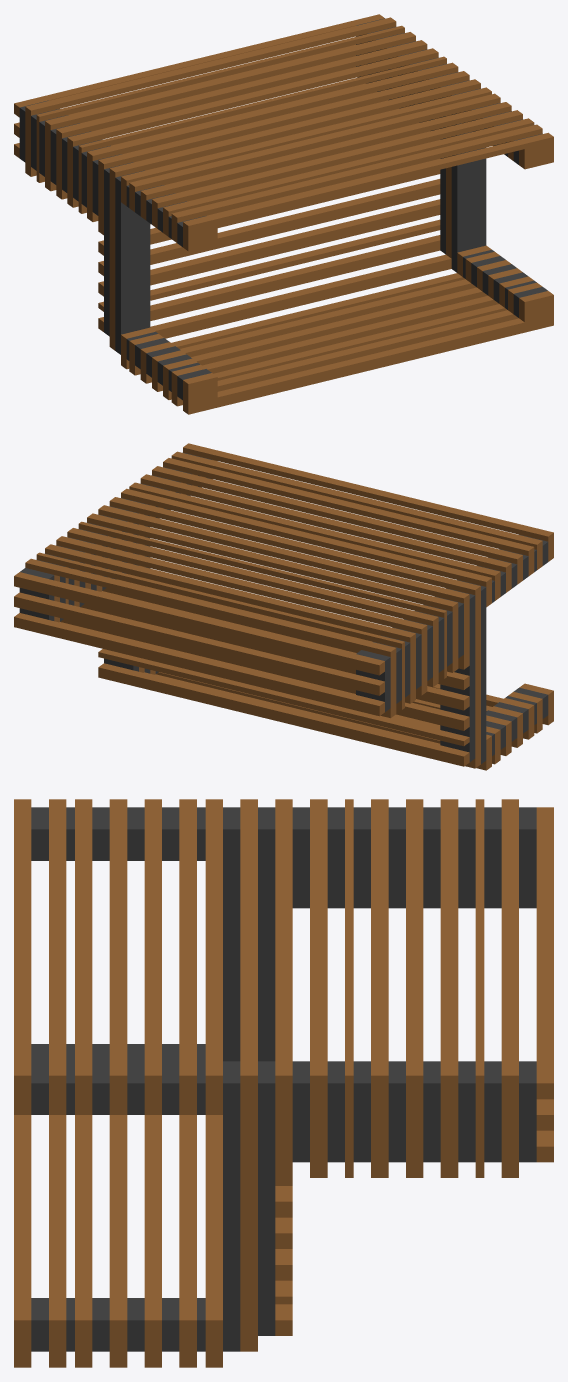
The model's file is bank.fbx.
3 views of the same model, one above another, from view 1: azimuth 30°, elevation 25°; view 2: azimuth 150°, elevation 25°; view 3: azimuth 270°, elevation 25° (orthographic). The views are drawn at different scales.
Parts seen in each view (by area): view 1: imagetostl_mesh0; view 2: imagetostl_mesh0; view 3: imagetostl_mesh0.
Part boxes in pixels (x1,y1,x2,y2): imagetostl_mesh0: [14, 14, 553, 414]; imagetostl_mesh0: [14, 443, 553, 770]; imagetostl_mesh0: [14, 799, 553, 1367].
Bounding box in the file's own units: 10000 × 4933 × 8267.
